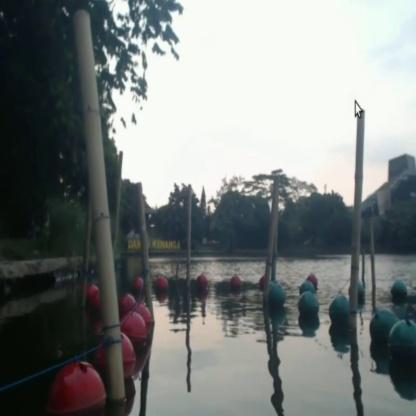green_buoy: (388, 323, 415, 381), (368, 309, 393, 348), (298, 292, 318, 324), (266, 280, 284, 313), (330, 295, 346, 331), (390, 280, 408, 304), (300, 280, 314, 296)
red_buoy: (48, 368, 105, 414), (125, 311, 146, 354), (122, 338, 136, 378), (142, 305, 154, 336), (156, 272, 168, 296), (230, 272, 242, 294), (194, 272, 205, 296), (88, 286, 100, 308), (132, 275, 144, 297), (120, 296, 132, 313), (307, 272, 316, 282)
